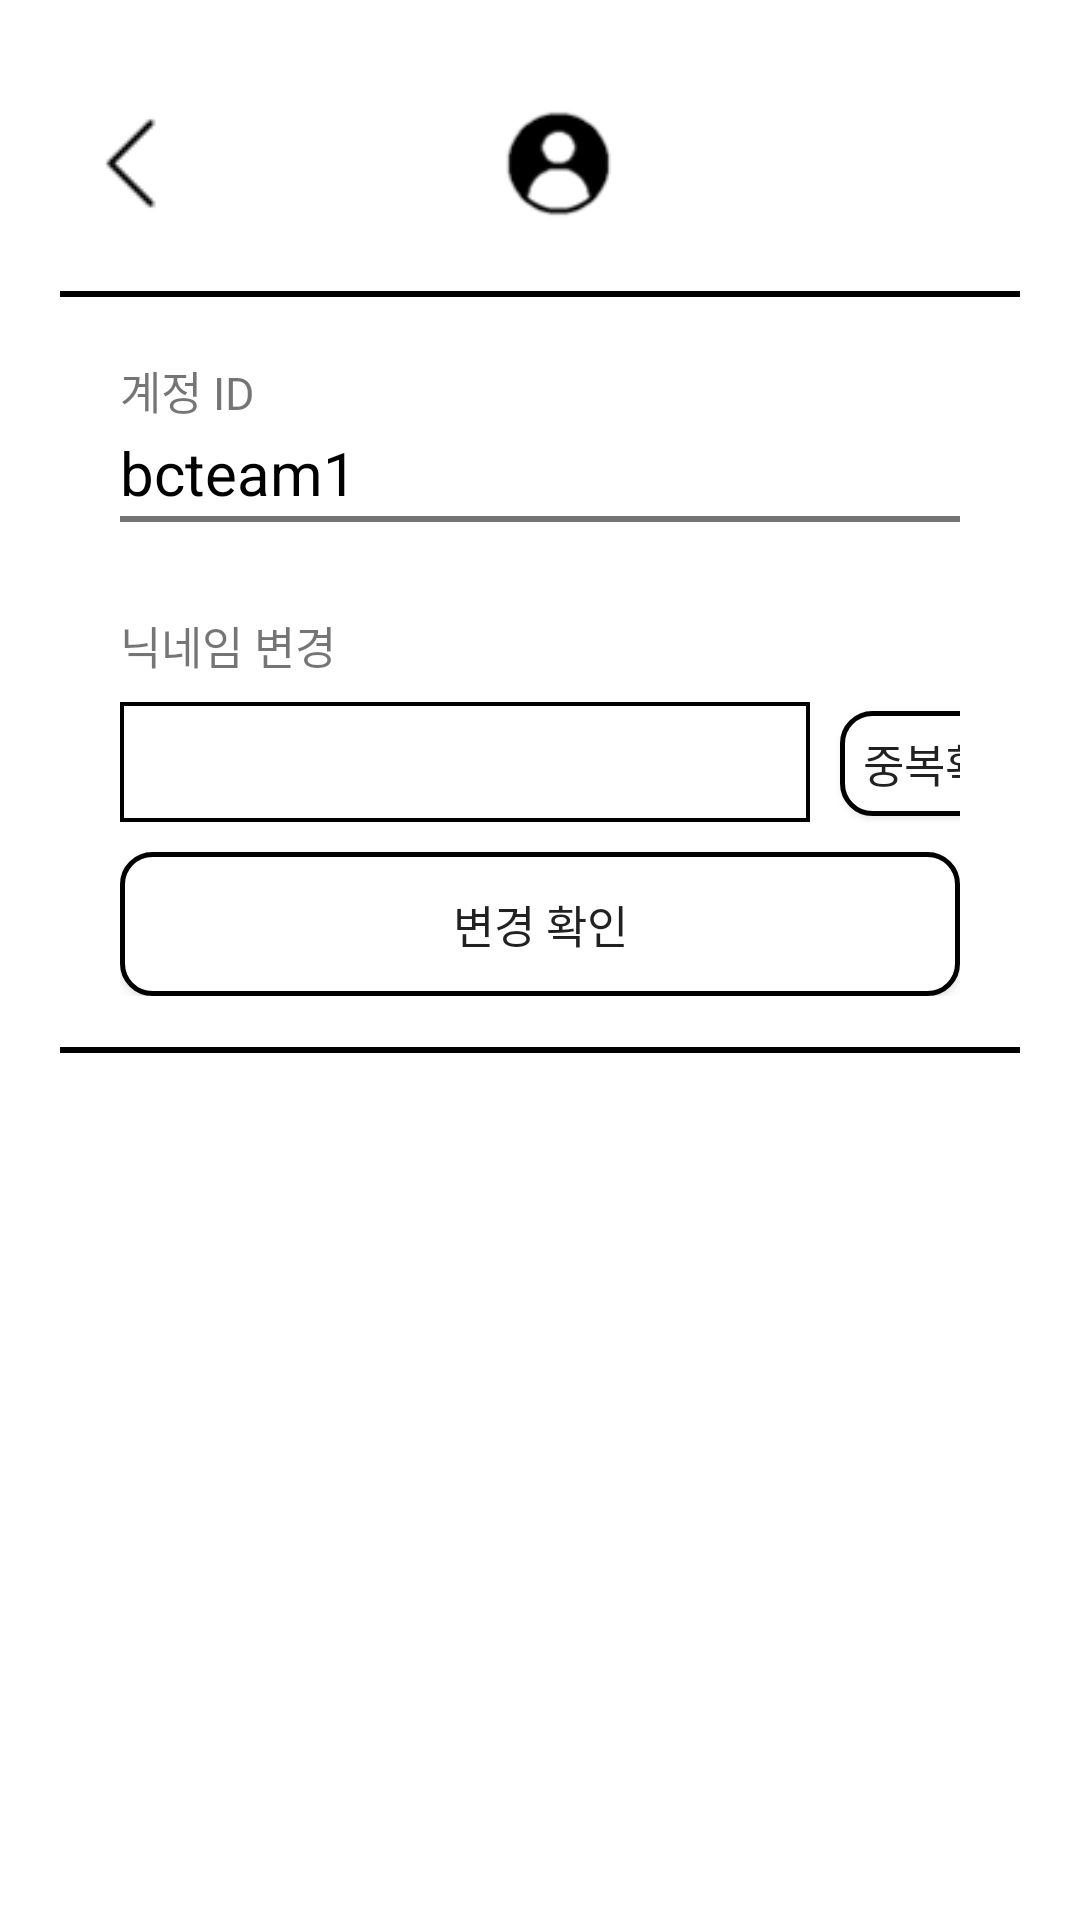

Icons on this 1080px×1920px Android screen, each with its box as (x1,y1,x2,y2):
backbutton: (106,119,156,208)
